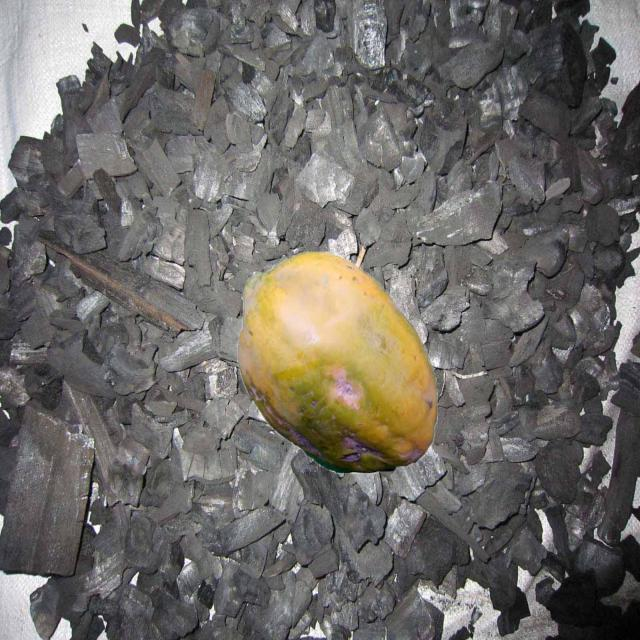Pepaya rippen: (236, 255, 444, 488)
